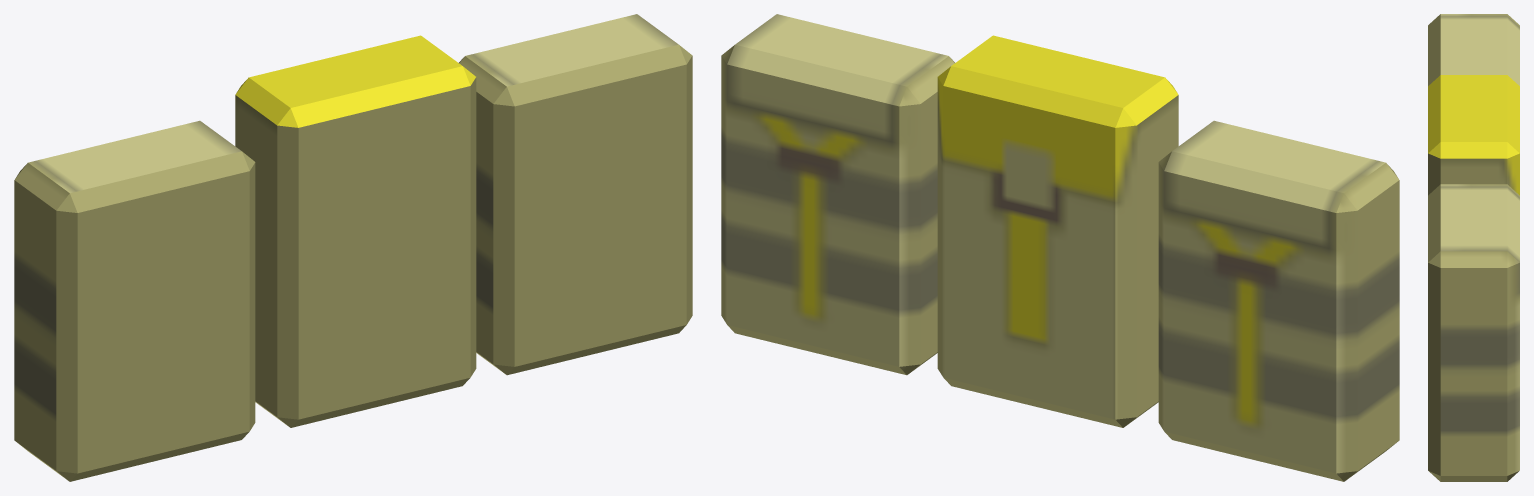
Rendered from back_acc_18.FBX.
The picture shows the model from 3 angles, left to right: view 1: azimuth 30°, elevation 25°; view 2: azimuth 150°, elevation 25°; view 3: azimuth 270°, elevation 25°; orthographic projection. The views are drawn at different scales.
Parts seen in each view (by area): view 1: back_acc_18; view 2: back_acc_18; view 3: back_acc_18.
Part boxes in pixels (x1,y1,x2,y2): back_acc_18: (14, 14, 692, 481); back_acc_18: (721, 14, 1399, 481); back_acc_18: (1428, 14, 1519, 481).
Bounding box in the file's own units: 19.6 × 9.42 × 3.07.
